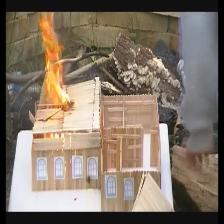fire: (37, 13, 71, 105)
